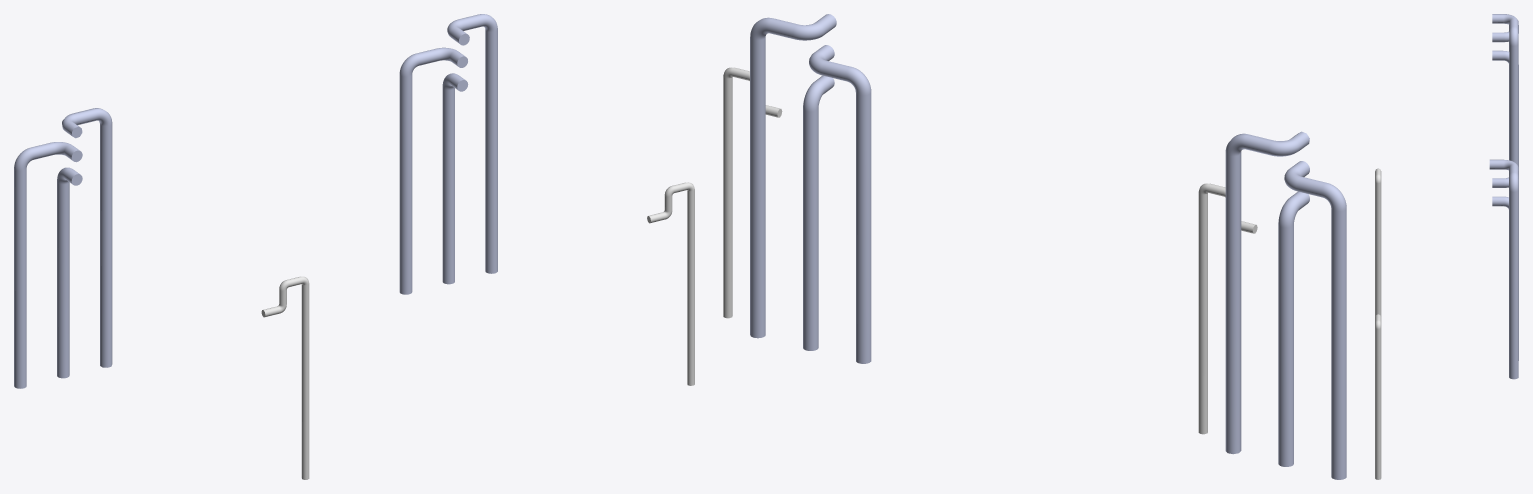
The picture shows the model from 3 angles, left to right: view 1: azimuth 30°, elevation 25°; view 2: azimuth 150°, elevation 25°; view 3: azimuth 270°, elevation 25°; orthographic projection. The views are drawn at different scales.
Parts seen in each view (by area): view 1: 扫描_6, 扫描_8, 扫描_1, 扫描_3, 扫描_5, 扫描_4, 扫描_22, 扫描_23; view 2: 扫描_1, 扫描_8, 扫描_6, 扫描_3, 扫描_5, 扫描_4, 扫描_22, 扫描_23; view 3: 扫描_8, 扫描_1, 扫描_23, 扫描_22, 扫描_4, 扫描_5, 扫描_3, 扫描_6.
Boxes of the visible parts, box(x1,y1,x2,y2) form: 扫描_6: box(399, 47, 465, 294); 扫描_8: box(447, 14, 497, 273); 扫描_1: box(62, 108, 112, 367); 扫描_3: box(14, 142, 79, 388); 扫描_5: box(442, 73, 465, 284); 扫描_4: box(57, 167, 79, 378); 扫描_22: box(263, 276, 309, 479); 扫描_23: box(649, 182, 694, 385); 扫描_1: box(1225, 131, 1309, 454); 扫描_8: box(750, 14, 836, 338); 扫描_6: box(809, 45, 871, 363); 扫描_3: box(1284, 161, 1346, 479); 扫描_5: box(803, 75, 834, 350); 扫描_4: box(1278, 191, 1309, 466); 扫描_22: box(1198, 183, 1256, 434); 扫描_23: box(723, 67, 780, 318); 扫描_8: box(1489, 159, 1518, 379); 扫描_1: box(1492, 14, 1518, 166); 扫描_23: box(1375, 314, 1381, 479); 扫描_22: box(1375, 168, 1381, 316); 扫描_4: box(1492, 50, 1518, 209); 扫描_5: box(1492, 196, 1518, 360); 扫描_3: box(1492, 25, 1518, 51); 扫描_6: box(1492, 171, 1518, 187).
Bounding box in the file's own units: 517 × 280 × 140.
